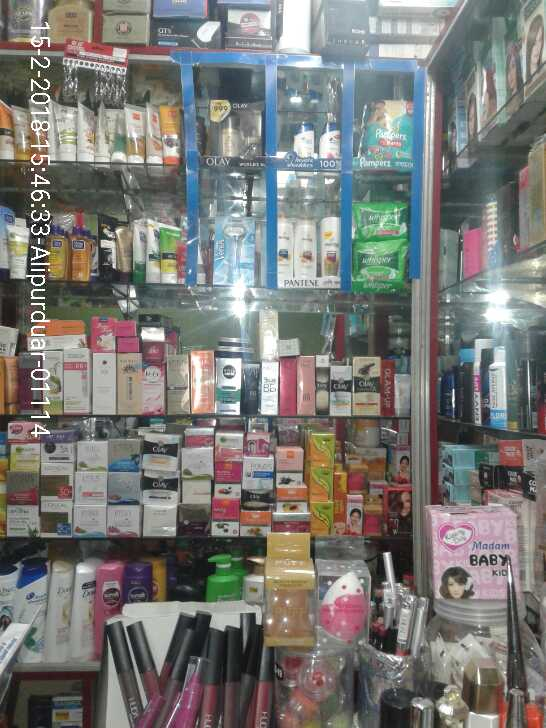venus: (212, 213, 253, 281)
